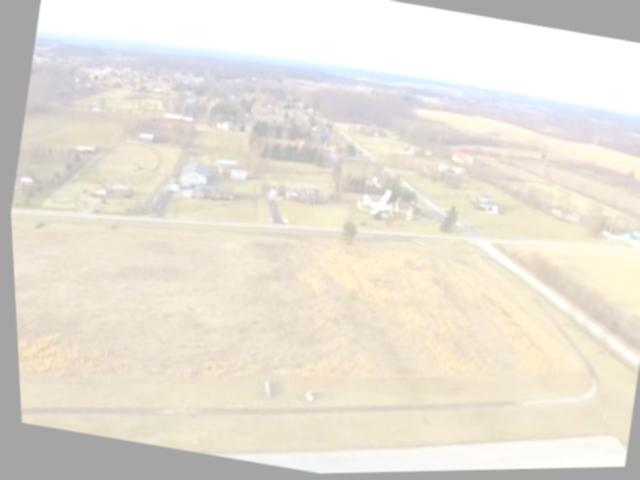uav: (348, 174, 406, 230)
